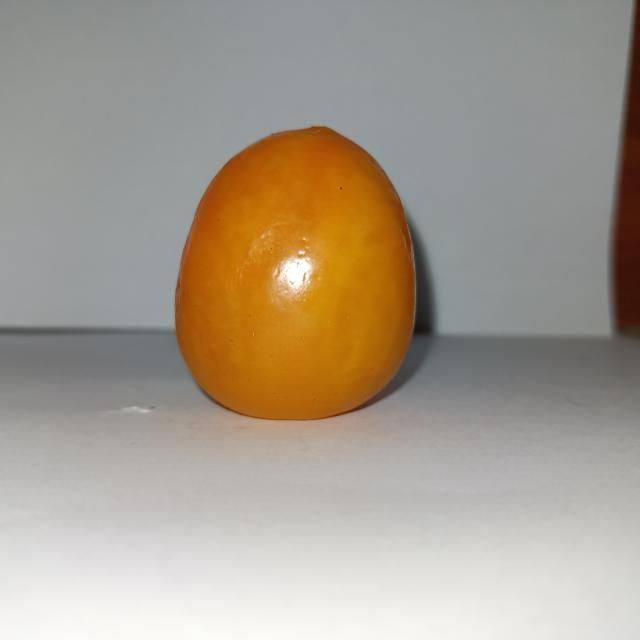Red: (173, 123, 418, 421)
